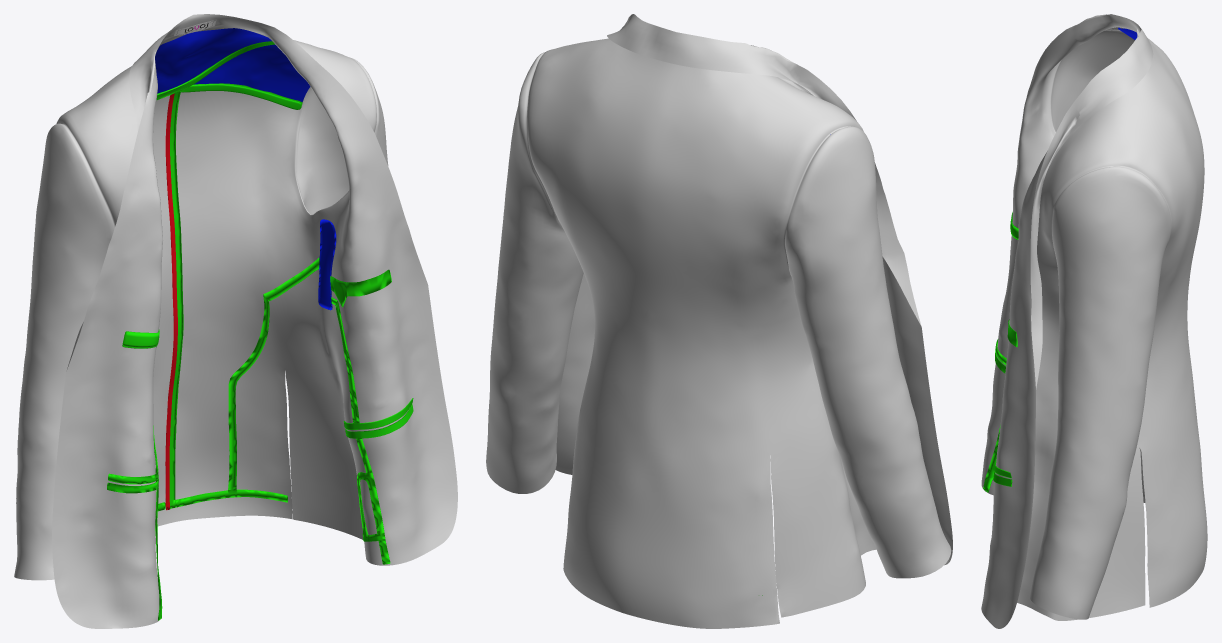
The model's file is open_lining_side_vent.glb.
3 views of the same model, side by side, from view 1: azimuth 30°, elevation 25°; view 2: azimuth 150°, elevation 25°; view 3: azimuth 270°, elevation 25° (orthographic). The views are drawn at different scales.
Visible parts, largest first — view 1: unlined_suit_02, tertiary_02, secondary_02, primary_02; view 2: unlined_suit_02; view 3: unlined_suit_02, tertiary_02.
Boxes of the visible parts, bbox=[...] form: unlined_suit_02: bbox=[14, 14, 457, 628]; tertiary_02: bbox=[107, 41, 413, 620]; secondary_02: bbox=[155, 28, 336, 310]; primary_02: bbox=[165, 93, 177, 510]; unlined_suit_02: bbox=[486, 14, 952, 628]; unlined_suit_02: bbox=[981, 14, 1207, 628]; tertiary_02: bbox=[983, 212, 1018, 492].
Size of the model in its own units: 65.06 by 76.77 by 29.65.
Materials: 5 (1 with a texture image).
